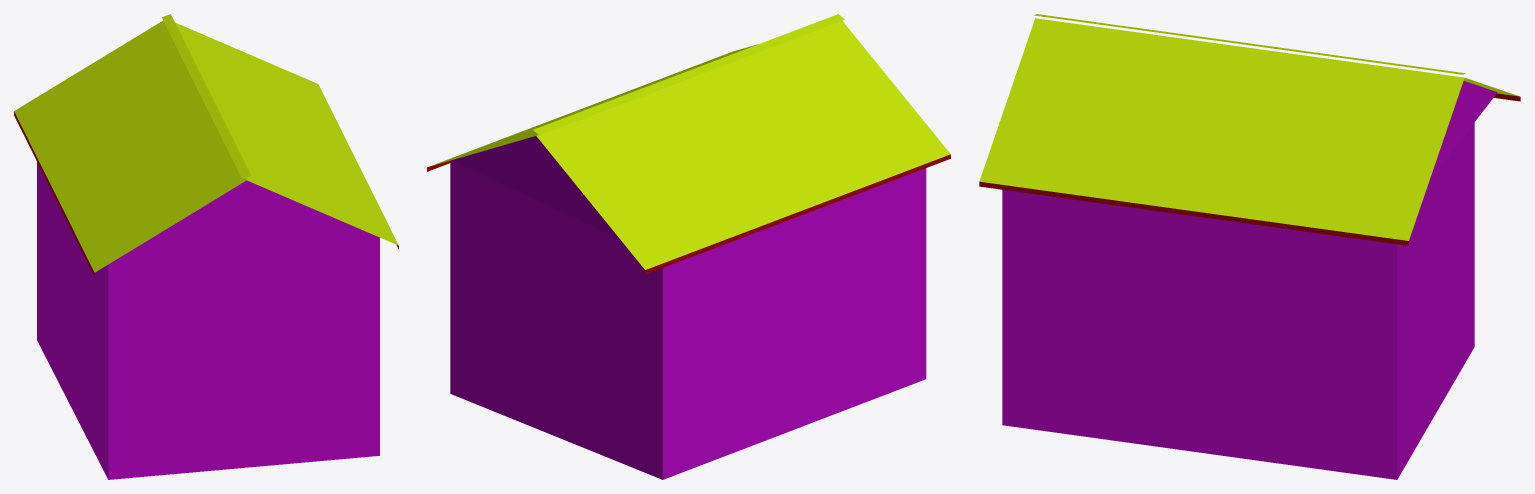
The picture shows the model from 3 angles, left to right: view 1: azimuth 30°, elevation 25°; view 2: azimuth 150°, elevation 25°; view 3: azimuth 270°, elevation 25°; orthographic projection. The views are drawn at different scales.
Parts seen in each view (by area): view 1: sc_94; view 2: sc_94; view 3: sc_94.
Boxes of the visible parts, box(x1,y1,x2,y2) form: sc_94: box(14, 14, 398, 479); sc_94: box(427, 14, 950, 479); sc_94: box(979, 14, 1520, 479).
Bounding box in the file's own units: 10.65 × 8.4 × 11.96.
